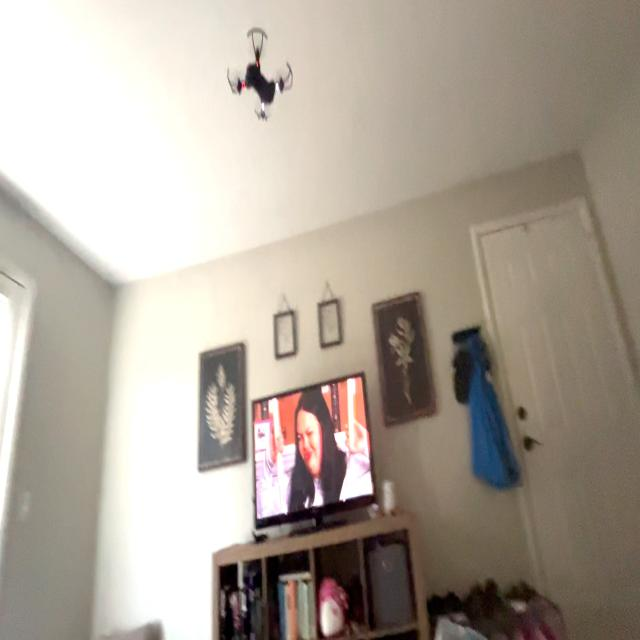drone: (218, 22, 298, 130)
